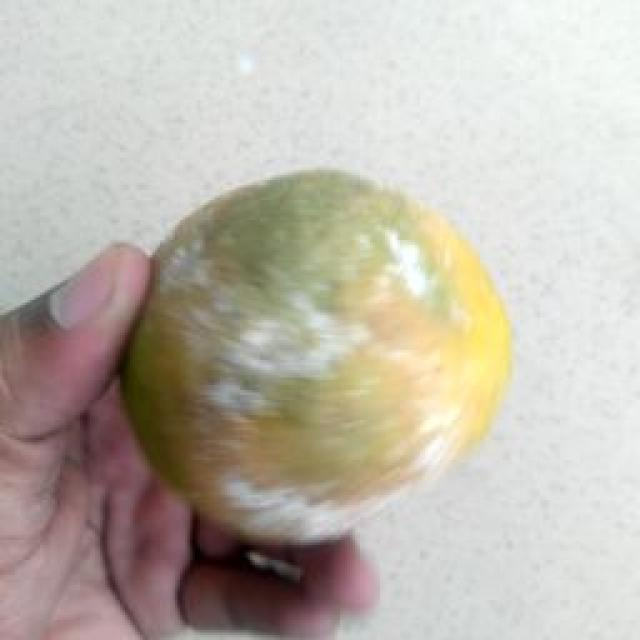Bad_Orange: (121, 171, 510, 543)
